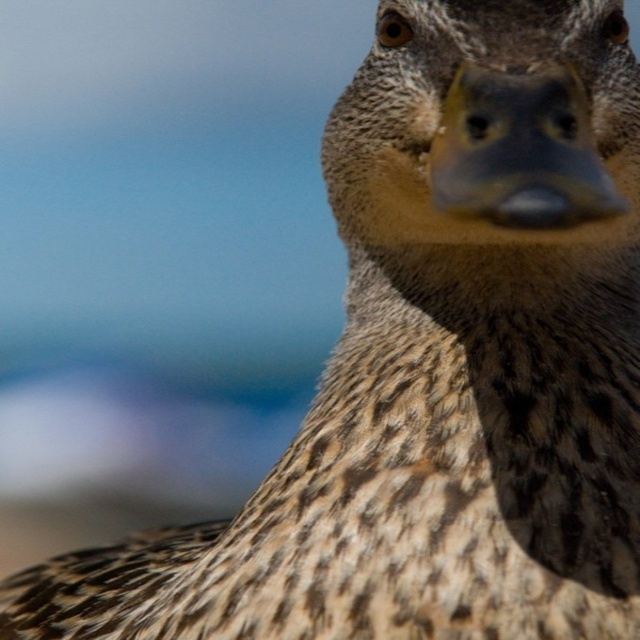Goose: (20, 26, 629, 622)
